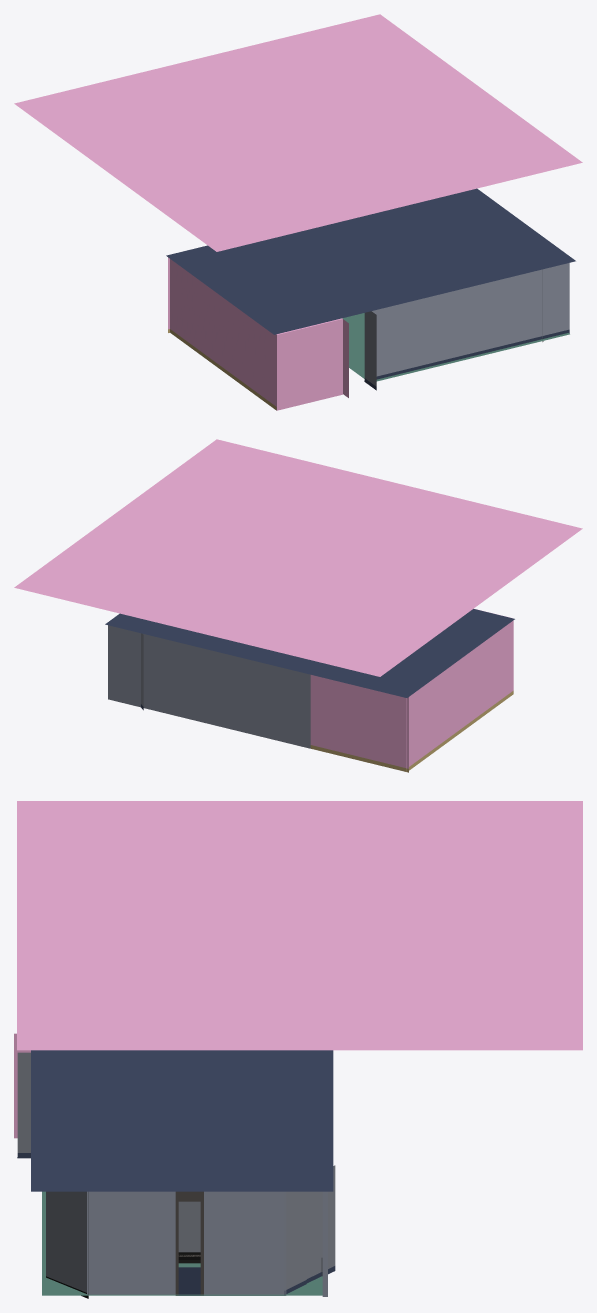
The model's file is cuarto.obj.
The picture shows the model from 3 angles, top to bottom: view 1: azimuth 30°, elevation 25°; view 2: azimuth 150°, elevation 25°; view 3: azimuth 270°, elevation 25°; orthographic projection. The views are drawn at different scales.
Visible parts, largest first — view 1: Plane.004, Plane.012, Plane.009, Plane.067, Plane.108, Plane.011, Plane.110; view 2: Plane.004, Plane.013, Plane.012, Plane.067, Plane.066; view 3: Plane.004, Plane.012, Plane.010, Plane.116, Plane.049, Plane.011, Plane.110, Plane.013.
Part boxes in pixels (x1,y1,x2,y2): Plane.004: (14,14,582,251); Plane.012: (166,188,575,334); Plane.009: (372,263,569,379); Plane.067: (170,259,276,410); Plane.108: (276,318,342,410); Plane.011: (342,313,569,381); Plane.110: (364,311,376,390); Plane.004: (14,439,582,676); Plane.013: (108,625,310,748); Plane.012: (105,609,514,697); Plane.067: (406,620,513,771); Plane.066: (310,675,408,772); Plane.004: (17,801,582,1050); Plane.012: (31,1050,333,1191); Plane.010: (87,1191,286,1295); Plane.116: (284,1165,335,1294); Plane.049: (46,1191,88,1298); Plane.011: (42,1191,322,1295); Plane.110: (17,1052,30,1158); Plane.013: (322,1191,327,1296).
Size of what is drawn, in the model's own units: 4.48 by 2.11 by 4.32.
Materials: 12 (12 with a texture image).
